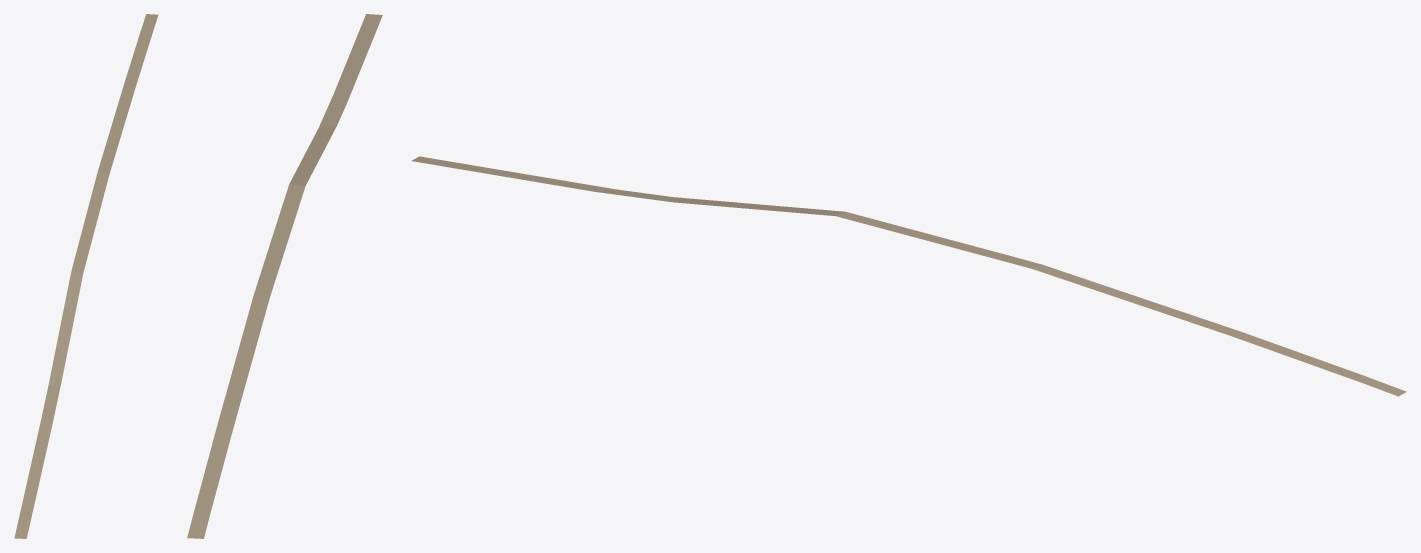
File: farm_-9_3_track.glb
The picture shows the model from 3 angles, left to right: view 1: azimuth 30°, elevation 25°; view 2: azimuth 210°, elevation 25°; view 3: azimuth 270°, elevation 25°; orthographic projection. The views are drawn at different scales.
Parts seen in each view (by area): view 1: geometry_0; view 2: geometry_0; view 3: geometry_0.
Part boxes in pixels (x1,y1,x2,y2): geometry_0: (14, 14, 158, 538); geometry_0: (187, 14, 382, 538); geometry_0: (411, 156, 1406, 396).
Bounding box in the file's own units: 175 × 22.99 × 231.
